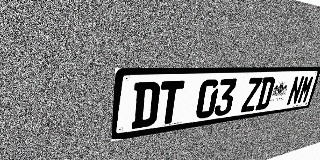0: (195, 79, 220, 119)
3: (213, 78, 238, 117)
D: (131, 81, 161, 129), (255, 77, 276, 110)
M: (296, 75, 315, 104)
N: (286, 76, 305, 106)
T: (157, 80, 185, 125)
Z: (240, 77, 263, 113)
